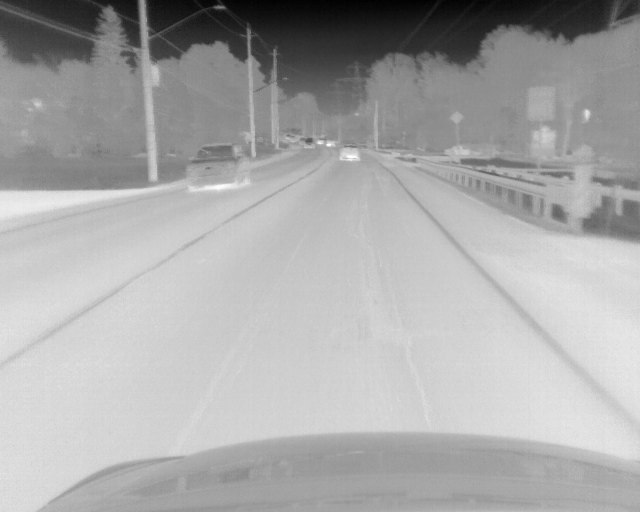car: (184, 143, 250, 190), (338, 144, 359, 162), (303, 137, 314, 148), (324, 140, 335, 148), (288, 135, 296, 144), (315, 138, 324, 145), (297, 137, 303, 145)
